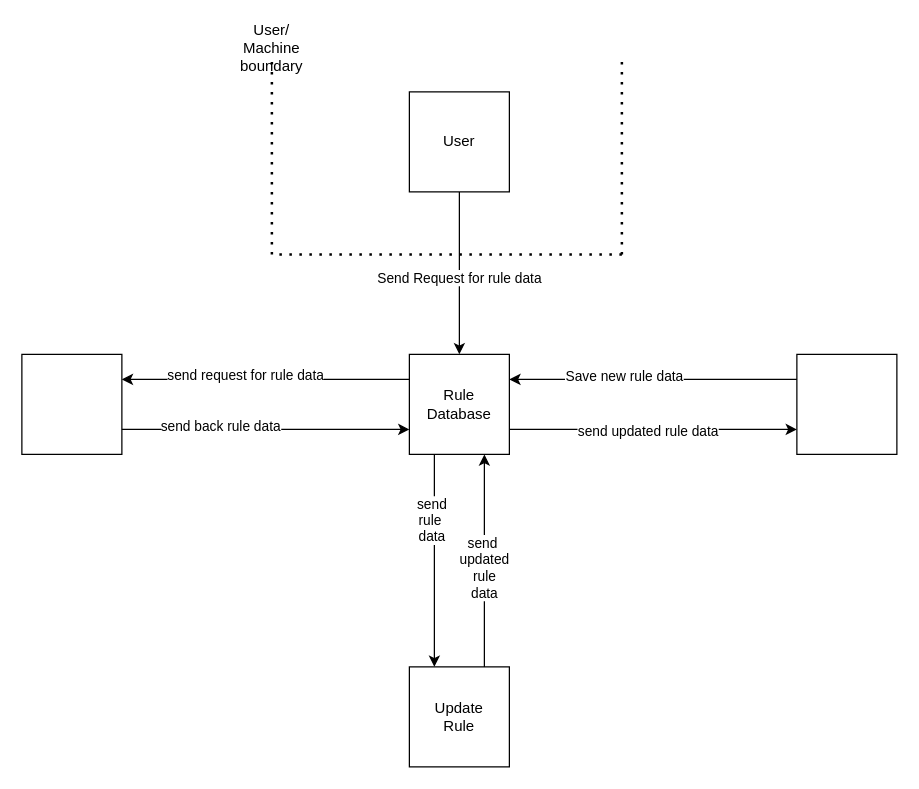
The diagram is 919 pixels wide and 789 high, and some of its shapes have lost their labels. The box of each missing label's shape, as (x1, y1, x2, y2) in pixels:
Rule data: (21, 353, 122, 454)
Save Data: (796, 353, 897, 454)
